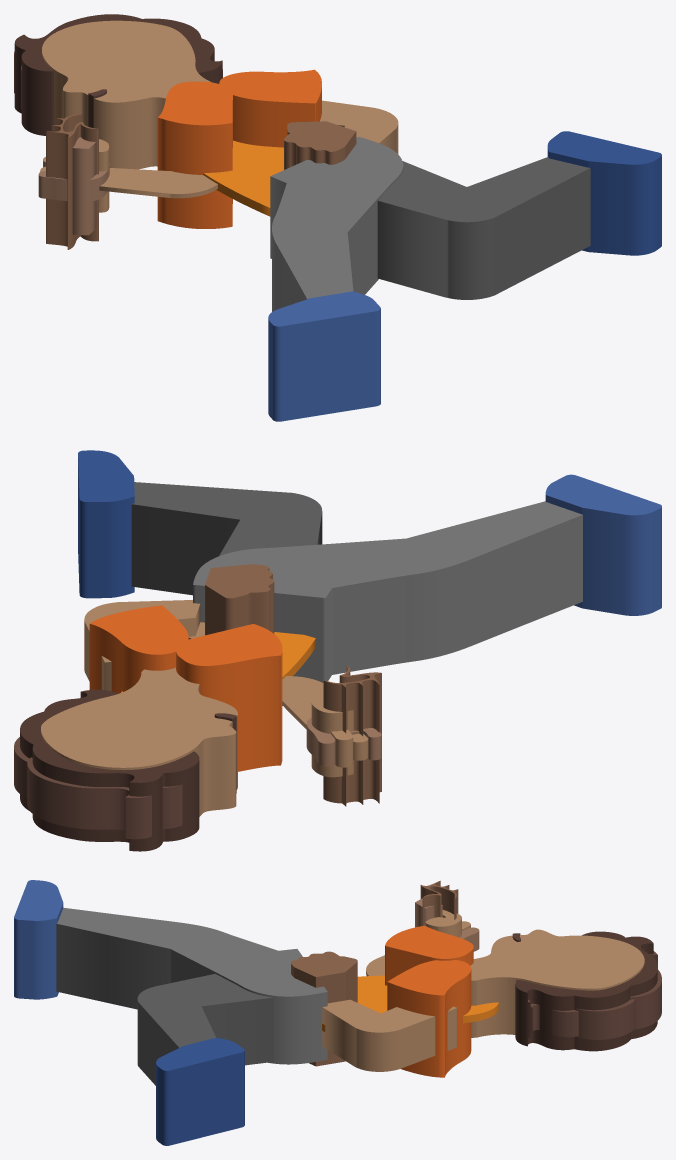
Rendered from emoji_u1f3c3_1f3fd.glb.
The picture shows the model from 3 angles, top to bottom: view 1: azimuth 30°, elevation 25°; view 2: azimuth 150°, elevation 25°; view 3: azimuth 270°, elevation 25°; orthographic projection. The views are drawn at different scales.
Parts seen in each view (by area): view 1: emoji_u1f3c3_1f3fd; view 2: emoji_u1f3c3_1f3fd; view 3: emoji_u1f3c3_1f3fd.
Boxes of the visible parts, bbox=[...] form: emoji_u1f3c3_1f3fd: bbox=[14, 14, 661, 421]; emoji_u1f3c3_1f3fd: bbox=[14, 450, 661, 851]; emoji_u1f3c3_1f3fd: bbox=[14, 880, 661, 1145].
Bounding box in the file's own units: 0.0227 × 0.0052 × 0.0329.
